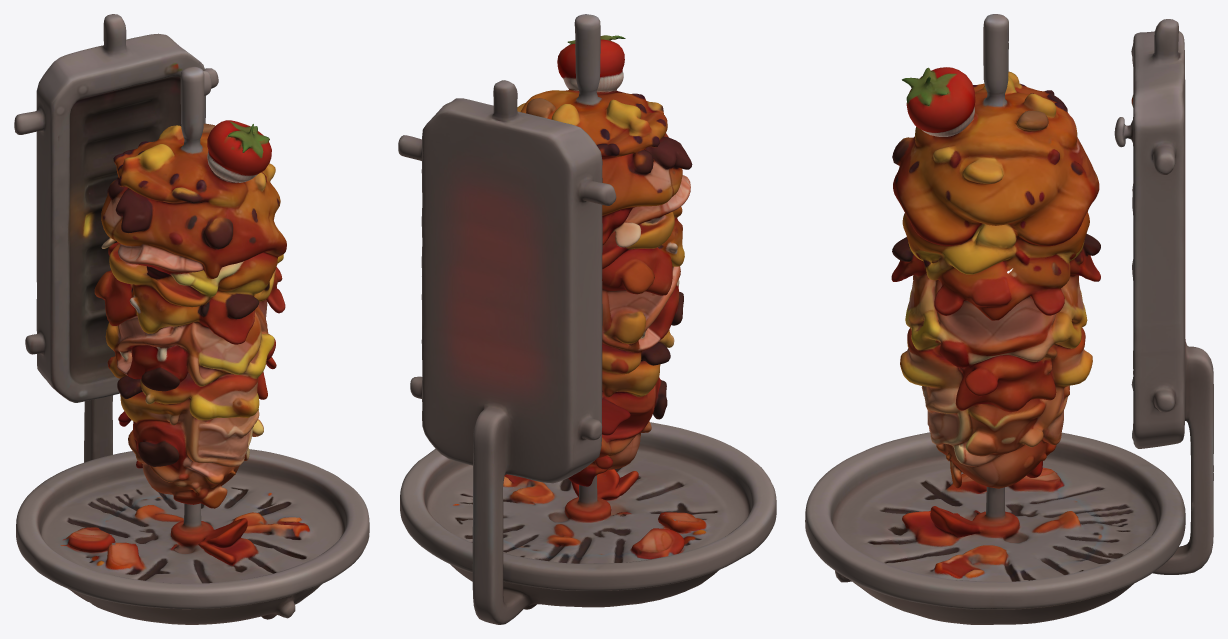
File: g67_pz_shawarma_spit.glb
The picture shows the model from 3 angles, left to right: view 1: azimuth 30°, elevation 25°; view 2: azimuth 150°, elevation 25°; view 3: azimuth 270°, elevation 25°; orthographic projection. The views are drawn at different scales.
Parts seen in each view (by area): view 1: tripo_node_901699e6; view 2: tripo_node_901699e6; view 3: tripo_node_901699e6.
Boxes of the visible parts, left/top/right/bottom form: tripo_node_901699e6: left=14, top=14, right=369, bottom=624; tripo_node_901699e6: left=398, top=14, right=776, bottom=624; tripo_node_901699e6: left=805, top=14, right=1213, bottom=624.
Bounding box in the file's own units: 61.72 × 97.98 × 64.48.
1 material, 1 textured.
